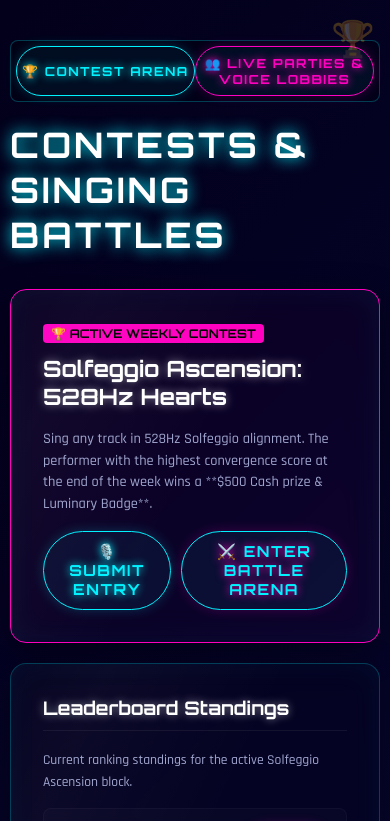
Scenario: Ariyus-One Vocal Chat Lobbies & Spatial Rooms tests › Entering voice room displays spatial soundstage stage coordinates and performance queue
Note: Switch to lobbies tab
Click the button "👥 Live Parties & Voice Lobbies" at (284, 71), box [195,46,374,96]
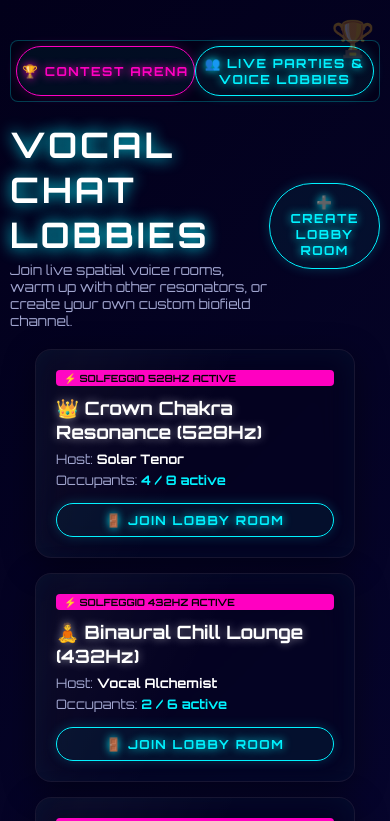
Note: Join room
Click the button "🚪 Join Lobby Room" below "Solar Tenor" at (195, 520), box [56,503,334,537]
(page scrolled)
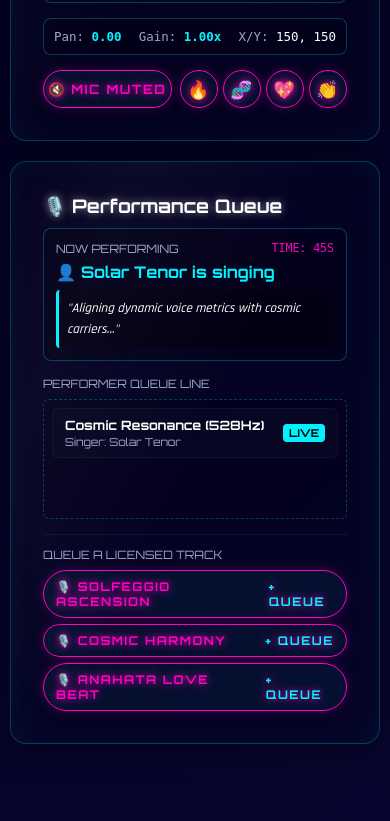
Now the text "Pan:" is shown, box [54,29,84,44]
Now the text "Gain:" is shown, box [139,29,176,44]
Note: Queue track
Click the 1st text "+ Queue" at (301, 594), box [269,579,334,609]
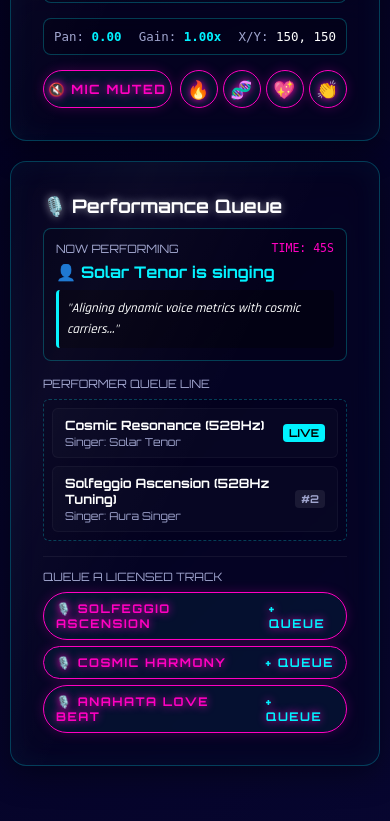
Now the text "Solfeggio Ascension (528Hz Tuning)" is shown, box [65,475,269,507]
